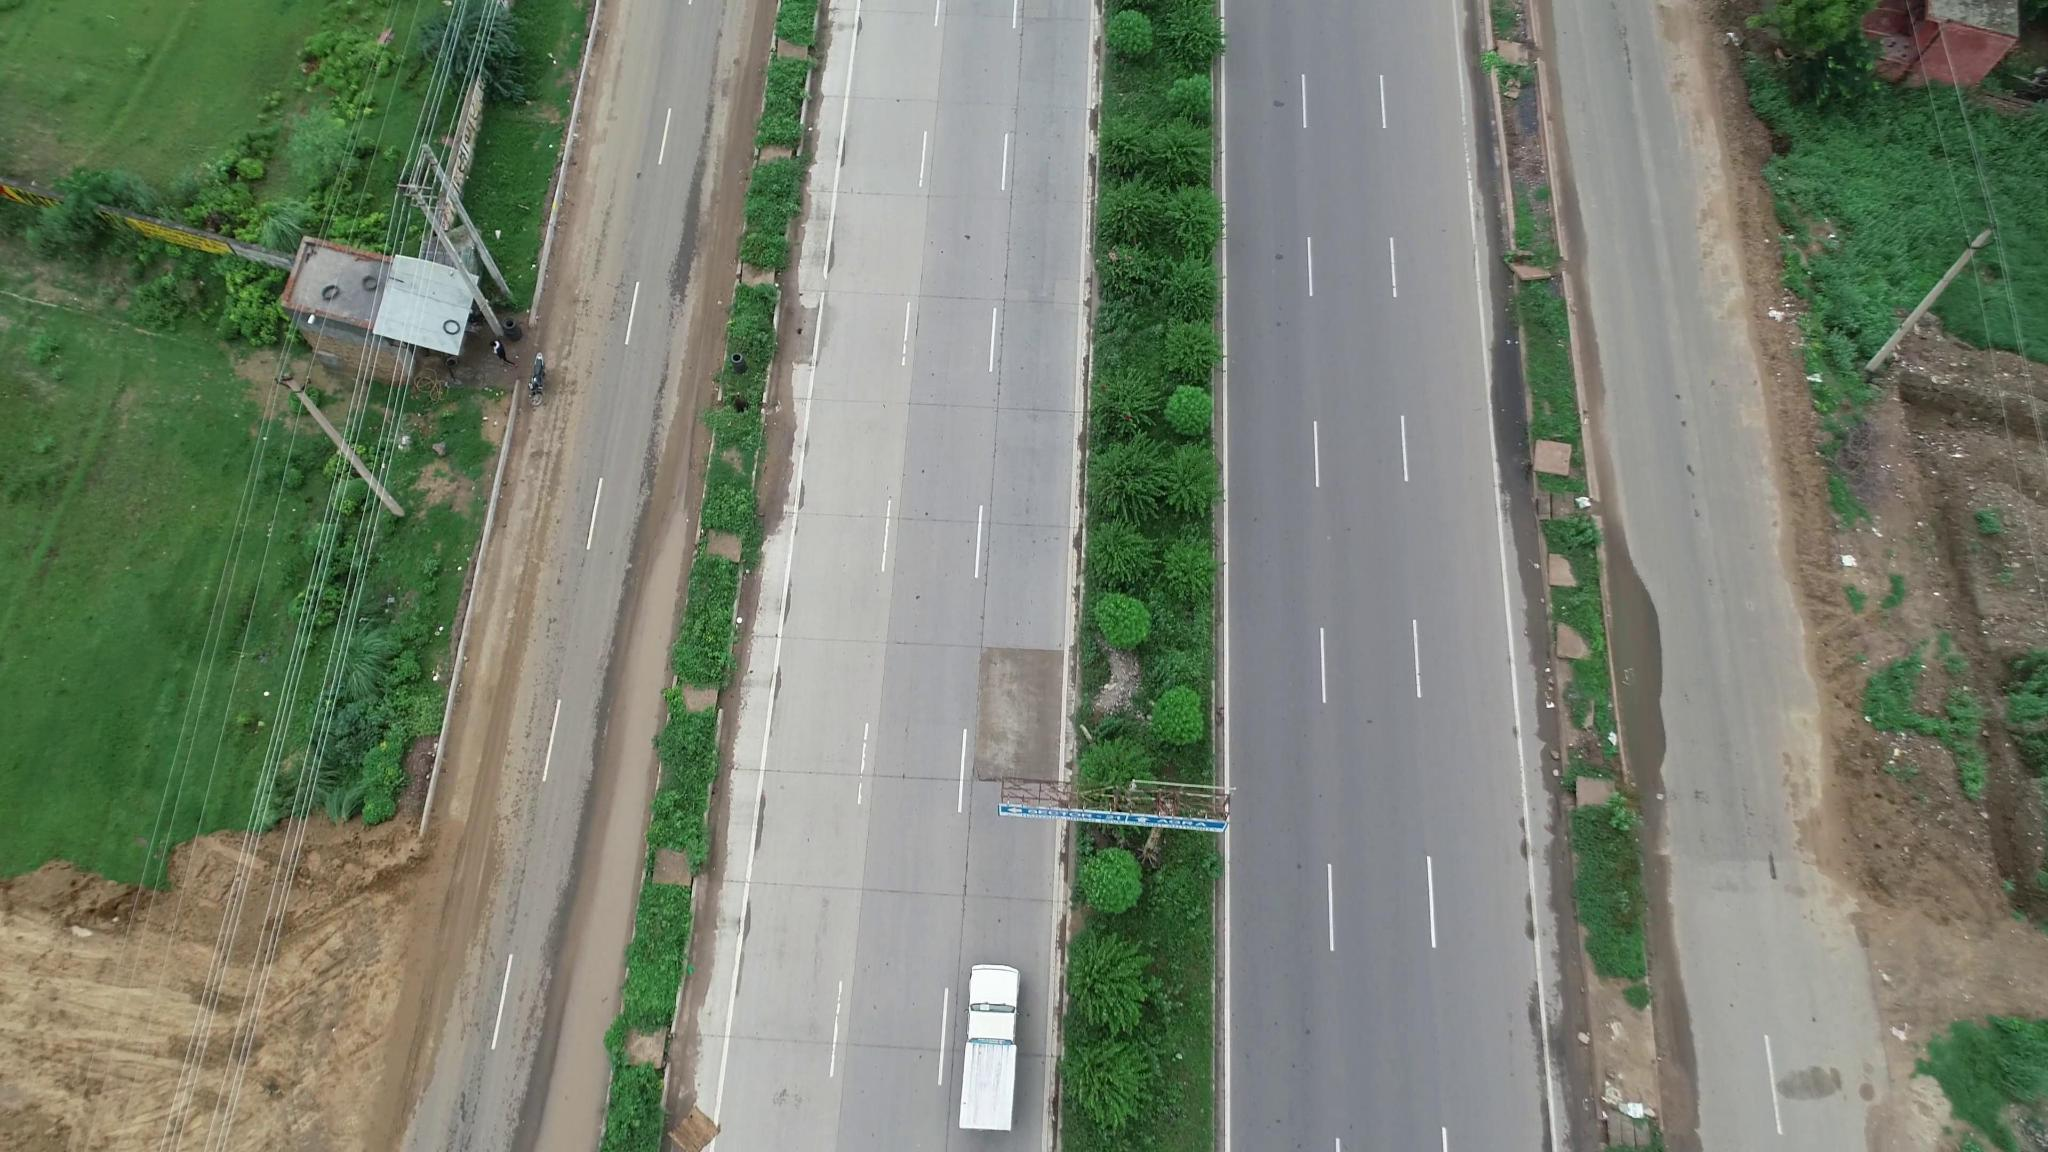Waterlogging: (546, 626, 671, 978)
